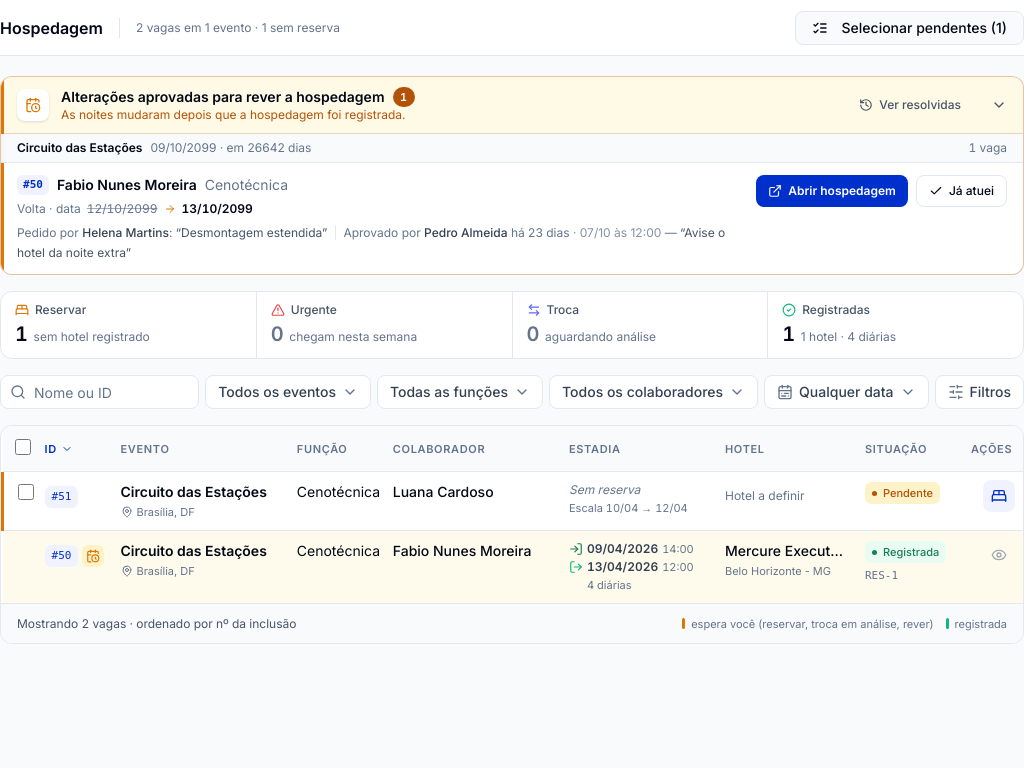
Hospedagem — avisos de alteração para Compras › 'Abrir hospedagem' abre o registro da vaga com o aviso no topo e o 'Já atuei' ali mesmo
Step 1. Click the button "Abrir hospedagem" → coordinates (832, 191), box [756,175,908,207]
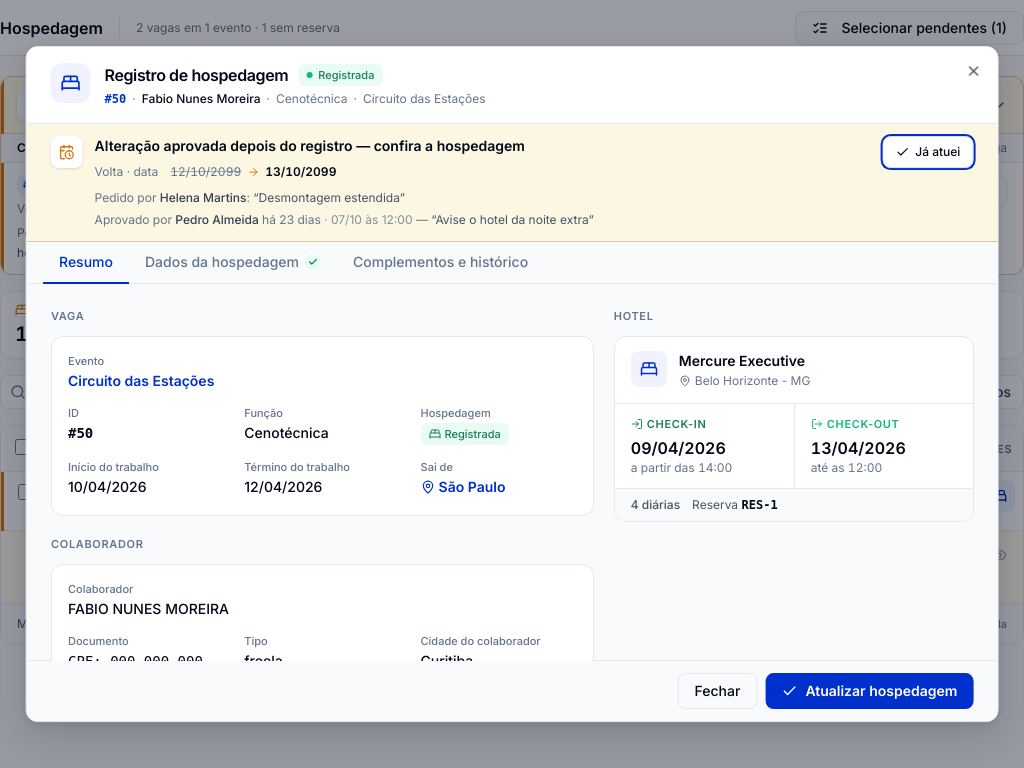
Check: the dialog "Registro de hospedagem" shows "#50"
Check: the element named "Alteração aprovada para remarcar" shows "Alteração aprovada depois do registro — confira a hospedagem", box [27,124,997,242]
Check: the element named "Alteração aprovada para remarcar" shows "Volta · data", box [95,164,158,179]
